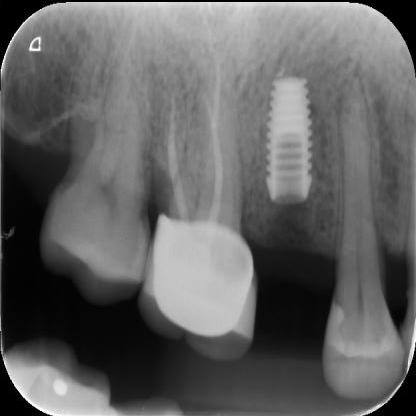Bicon: (256, 66, 319, 210)
